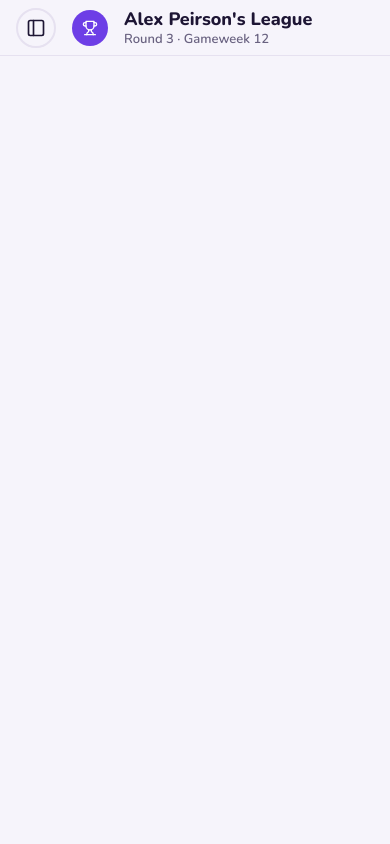
it: MobileNav › lists Home and Account for a signed-in player
What coordinates should you click on to do the following:
click the button named "Open menu"
I would click on:
 (36, 28)
Its box is [16,8,56,48].
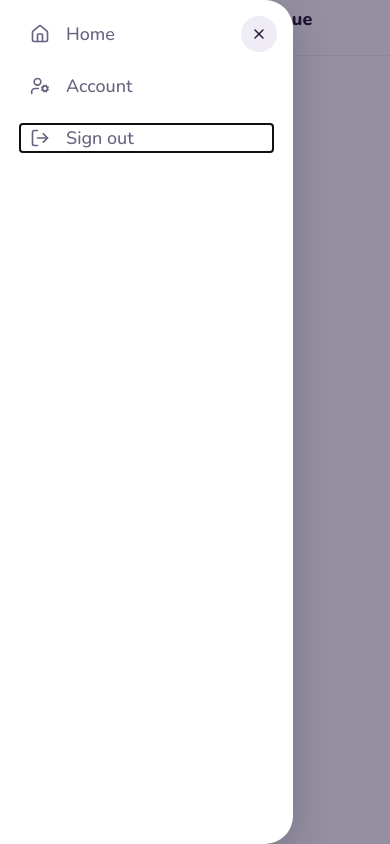
expect the links read "Home", "Account", in this order: met, box [30,22,115,46]; [30,74,132,98]
